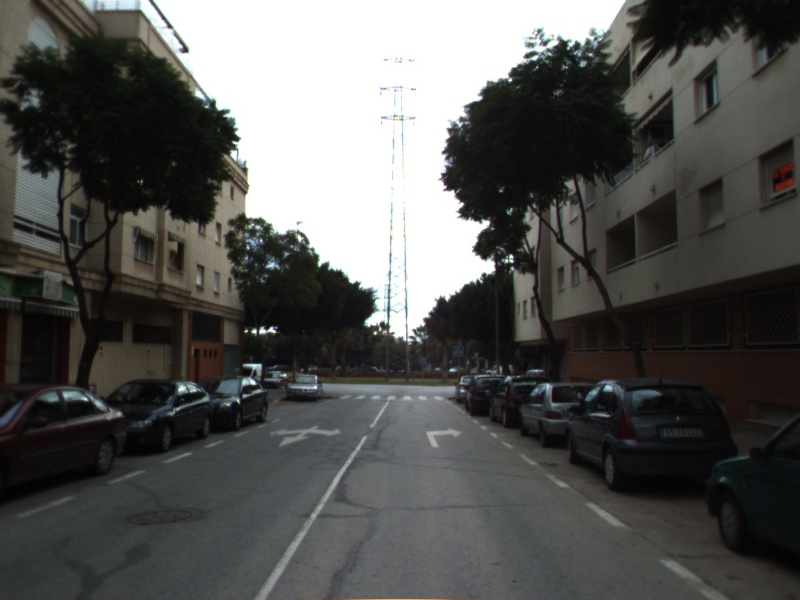RIGHT: (424, 425, 464, 449)
